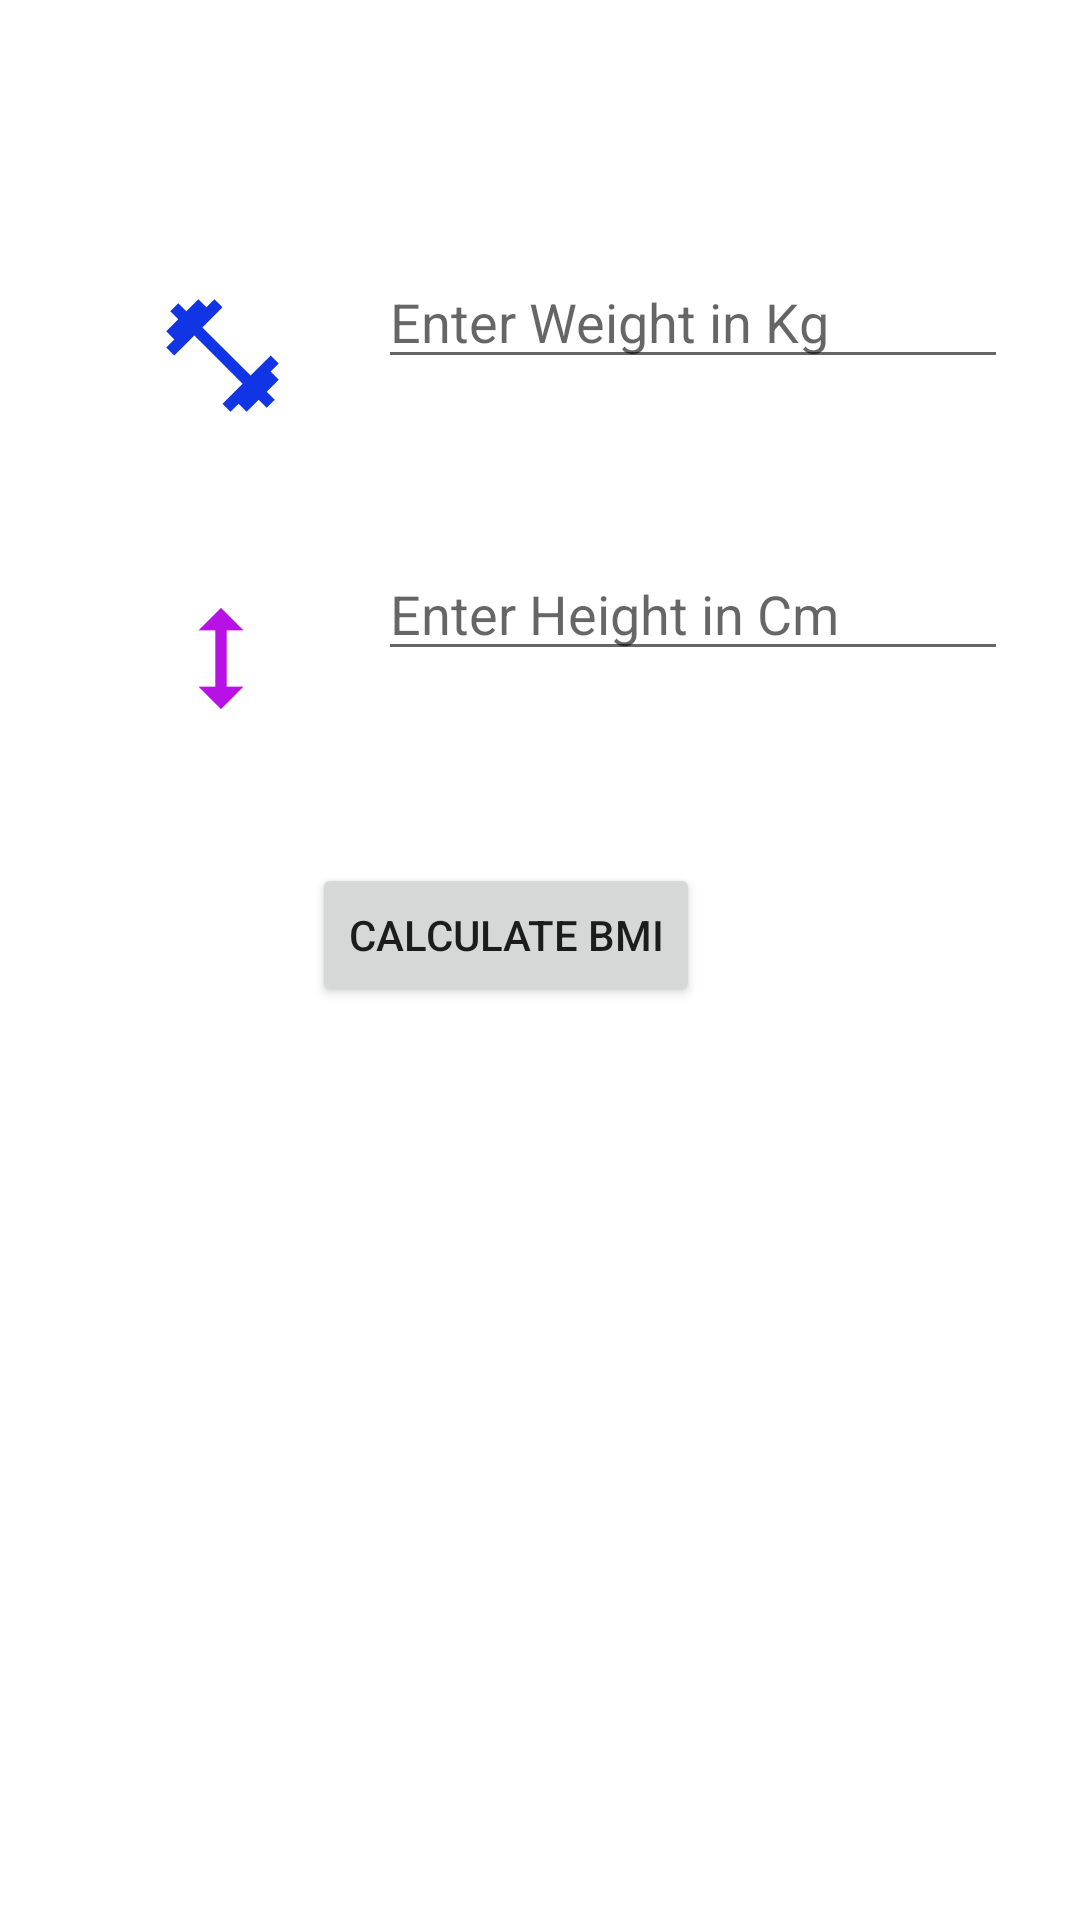

Point at icon controls on the screen. Image size 1080*1920, points as (x,y).
fitness center: (222,355)
